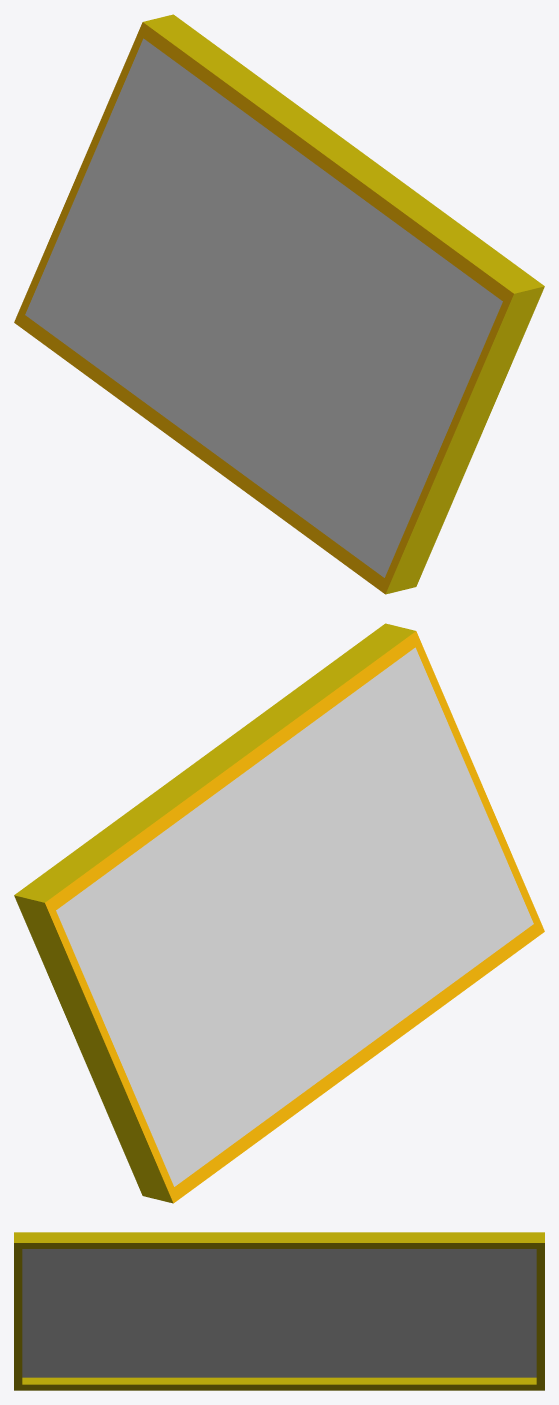
Rendered from window_slanted_5x1x2.dae.
The picture shows the model from 3 angles, top to bottom: view 1: azimuth 30°, elevation 25°; view 2: azimuth 150°, elevation 25°; view 3: azimuth 270°, elevation 25°; orthographic projection. The views are drawn at different scales.
Visible parts, largest first — view 1: Cube; view 2: Cube; view 3: Cube.
Boxes of the visible parts, box(x1,y1,x2,y2) form: Cube: box(14, 14, 544, 594); Cube: box(14, 623, 544, 1203); Cube: box(14, 1232, 544, 1390).
Bounding box in the file's own units: 0.31 × 1.25 × 0.5.
